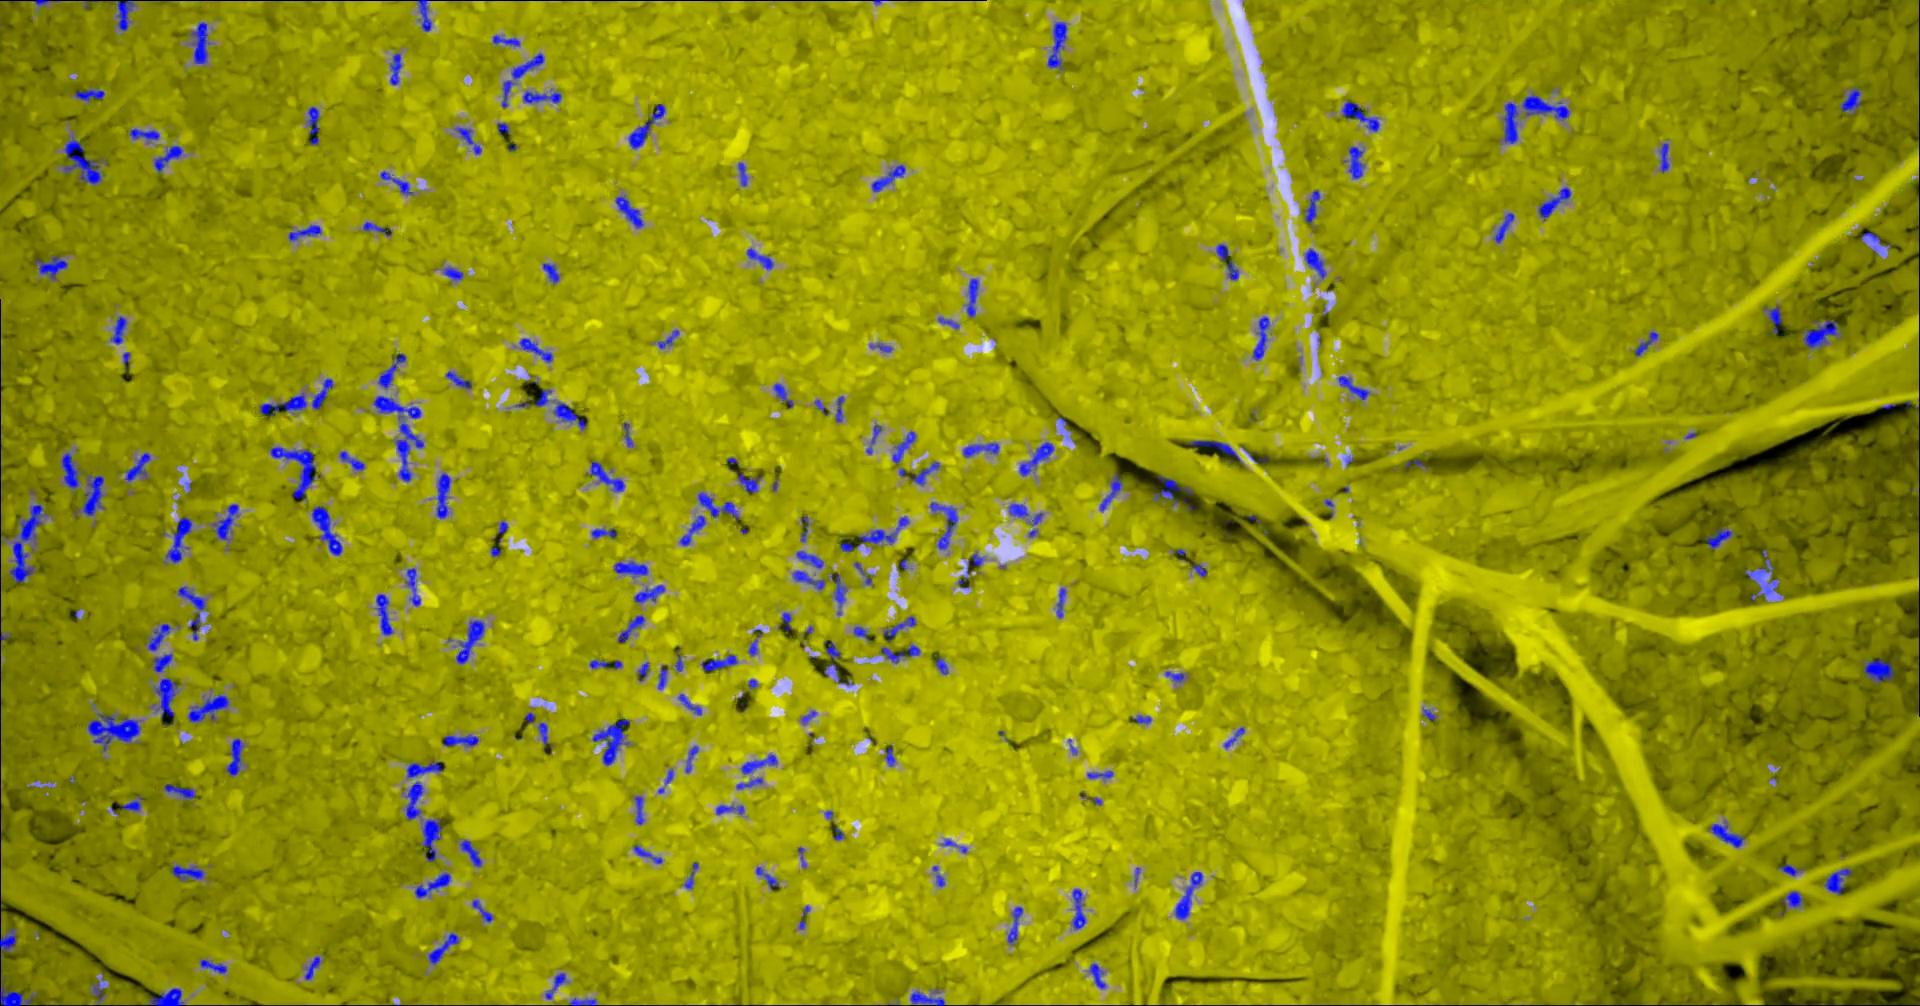ant: (9, 504, 47, 582), (0, 927, 36, 1005), (270, 446, 320, 498), (839, 516, 908, 551), (502, 53, 543, 107), (88, 713, 140, 751), (63, 137, 102, 184), (627, 103, 665, 149), (592, 718, 629, 765), (84, 0, 135, 30), (177, 586, 204, 640), (311, 506, 342, 555), (1175, 871, 1203, 920), (823, 639, 852, 685), (930, 502, 957, 549), (455, 619, 484, 663), (1189, 439, 1241, 464), (1521, 94, 1570, 119), (1341, 99, 1379, 131), (165, 516, 190, 563), (697, 492, 739, 520), (187, 694, 229, 721), (1152, 475, 1192, 503), (1018, 442, 1053, 475), (589, 460, 623, 492), (1801, 319, 1837, 348), (259, 392, 306, 415), (1538, 185, 1570, 218), (155, 677, 177, 724), (427, 932, 458, 964), (377, 352, 405, 387), (898, 461, 938, 485), (1743, 547, 1773, 580), (1046, 22, 1067, 69), (552, 401, 585, 429), (871, 164, 905, 191), (1709, 821, 1743, 847), (212, 503, 237, 539), (414, 873, 450, 898), (615, 196, 643, 227), (1098, 473, 1121, 511), (957, 551, 982, 587), (420, 819, 441, 861), (81, 475, 103, 514), (1215, 243, 1238, 279), (883, 616, 916, 641), (152, 145, 182, 173), (190, 22, 210, 64), (519, 338, 552, 362), (891, 431, 916, 464), (679, 514, 705, 545), (61, 452, 83, 488), (36, 255, 67, 279), (1862, 659, 1893, 683), (378, 171, 411, 194), (880, 644, 919, 663), (145, 622, 171, 650), (1823, 868, 1851, 894), (1337, 375, 1368, 399), (375, 593, 392, 634), (1252, 316, 1269, 359), (455, 127, 481, 154), (617, 615, 644, 641), (124, 452, 149, 481), (740, 754, 777, 774), (1304, 248, 1326, 278), (225, 738, 243, 775), (405, 781, 422, 821), (745, 246, 773, 269), (436, 473, 450, 518), (458, 840, 481, 868), (1749, 578, 1778, 600), (1493, 212, 1514, 243), (311, 379, 331, 409), (830, 573, 846, 614), (149, 987, 183, 1005), (700, 654, 737, 671), (1343, 146, 1363, 178), (792, 570, 824, 589), (1705, 527, 1733, 549), (405, 567, 420, 606), (490, 521, 507, 556), (406, 761, 442, 777), (1503, 102, 1517, 144), (1763, 304, 1782, 334), (1007, 906, 1022, 944), (1839, 86, 1860, 113), (543, 972, 565, 998), (1070, 888, 1084, 929), (613, 560, 648, 577), (632, 584, 664, 602), (963, 442, 999, 457), (632, 843, 662, 862), (1634, 332, 1658, 354), (288, 224, 321, 240), (163, 782, 196, 799), (171, 864, 203, 880), (1304, 189, 1319, 224), (677, 694, 701, 715), (339, 450, 364, 470), (522, 90, 561, 103), (965, 278, 978, 318), (756, 866, 778, 888), (865, 424, 881, 453), (444, 370, 471, 387), (796, 550, 823, 568), (471, 899, 493, 921), (74, 86, 104, 102), (910, 991, 943, 1005), (773, 384, 792, 408), (737, 473, 761, 492), (110, 315, 126, 344), (1223, 727, 1244, 747), (417, 0, 430, 30), (1088, 963, 1105, 988), (657, 329, 678, 348), (1780, 890, 1802, 909), (362, 221, 391, 235), (747, 629, 762, 655), (442, 734, 477, 746), (683, 861, 698, 888), (389, 53, 401, 84), (307, 105, 317, 144), (855, 561, 871, 584), (684, 746, 698, 772), (940, 838, 966, 852), (199, 959, 226, 973), (130, 128, 159, 141), (538, 721, 551, 751), (535, 387, 554, 406), (1029, 512, 1043, 537), (303, 956, 319, 979), (152, 653, 171, 671), (91, 981, 105, 1005), (542, 263, 559, 283), (119, 795, 141, 810), (1777, 862, 1802, 875), (491, 34, 519, 46), (735, 777, 762, 789), (1658, 144, 1669, 171), (715, 804, 743, 814), (935, 655, 949, 674), (1057, 588, 1065, 617), (634, 795, 643, 824), (443, 267, 463, 279), (1008, 503, 1029, 516), (937, 316, 959, 328), (932, 865, 943, 887), (590, 528, 615, 539), (657, 664, 667, 688), (799, 904, 809, 929), (1086, 770, 1112, 779), (737, 163, 747, 185), (1860, 231, 1879, 243), (1164, 671, 1183, 682), (623, 422, 632, 446), (853, 626, 869, 640), (568, 997, 596, 1005), (1404, 459, 1425, 469), (884, 746, 894, 766), (869, 343, 891, 352), (800, 514, 808, 541), (836, 395, 843, 420), (1191, 563, 1206, 575), (781, 612, 791, 631), (637, 661, 648, 680), (589, 659, 610, 668), (1131, 715, 1150, 723), (497, 122, 508, 133)
